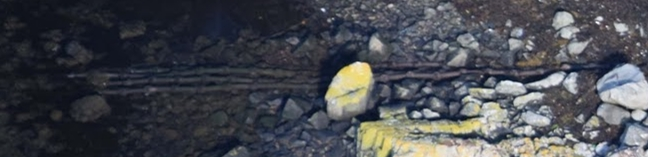tube: (72, 55, 303, 103), (379, 57, 578, 86)
